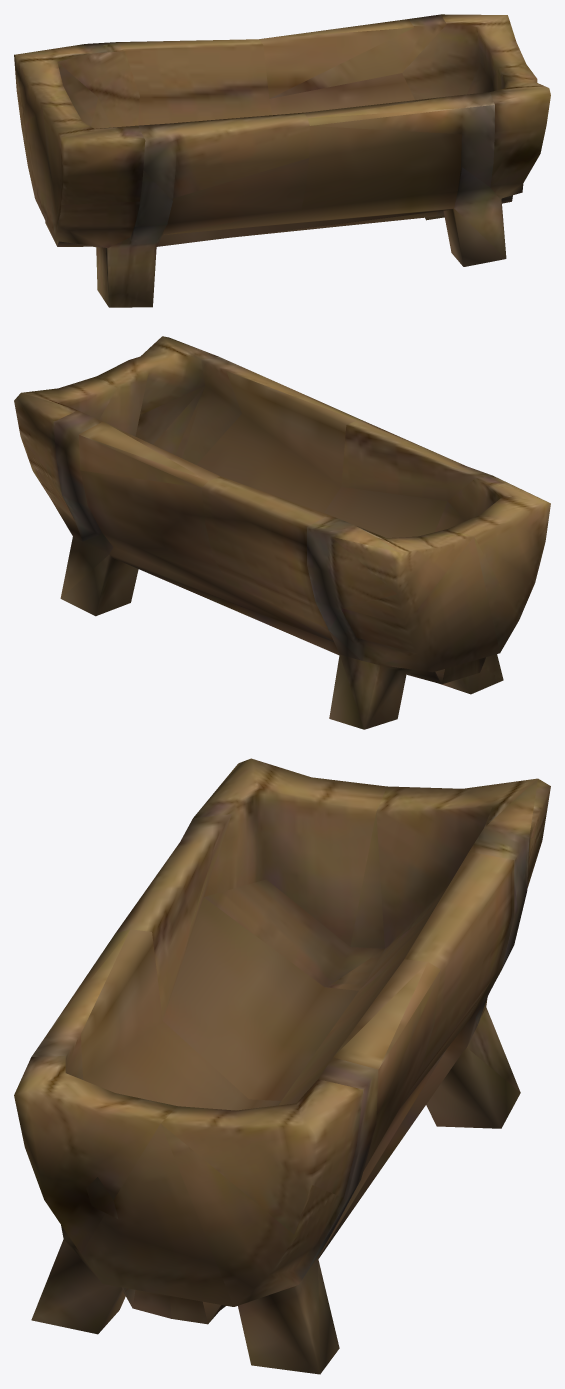
File: water-trough.glb
The picture shows the model from 3 angles, top to bottom: view 1: azimuth 30°, elevation 25°; view 2: azimuth 150°, elevation 25°; view 3: azimuth 270°, elevation 25°; orthographic projection. The views are drawn at different scales.
Visible parts, largest first — view 1: tripo_part_3; view 2: tripo_part_3; view 3: tripo_part_3.
Part boxes in pixels (<box>): tripo_part_3: <box>14,14,550,307</box>; tripo_part_3: <box>14,336,550,729</box>; tripo_part_3: <box>14,758,550,1374</box>.
Bounding box in the file's own units: 0.7906 × 0.3073 × 0.4873.
1 material, 1 textured.
